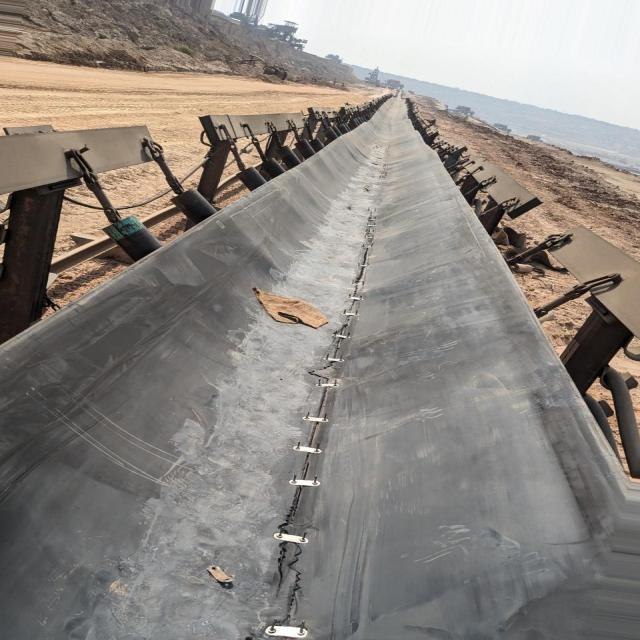Other Objects: (249, 287, 327, 329)
Roller: (237, 123, 347, 190), (103, 214, 163, 263), (172, 187, 221, 224)
patch work: (254, 253, 391, 640)
